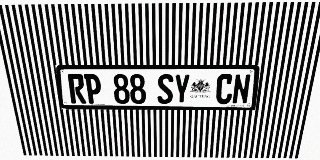8: (113, 74, 130, 104), (129, 74, 146, 104)
C: (215, 74, 234, 104)
N: (232, 74, 251, 104)
P: (84, 74, 102, 104)
R: (67, 74, 86, 104)
S: (157, 74, 173, 104)
Y: (174, 74, 190, 104)
